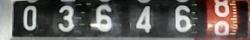digits: (174, 4, 192, 31), (95, 4, 112, 32), (135, 5, 152, 32), (58, 4, 74, 32), (22, 5, 36, 30), (215, 0, 229, 17)
